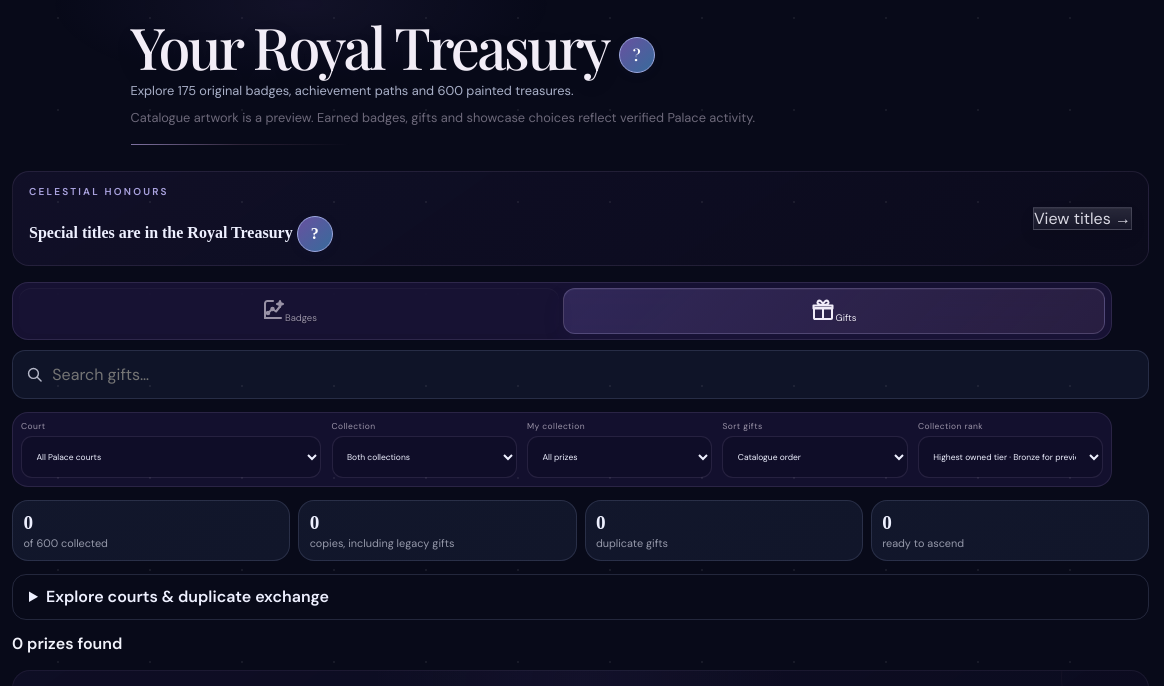
clears empty duplicate filters without treating different tiers as duplicates
Click the button with aria-label "Gift collection". click: x=834, y=311
box: [563, 288, 1105, 334]
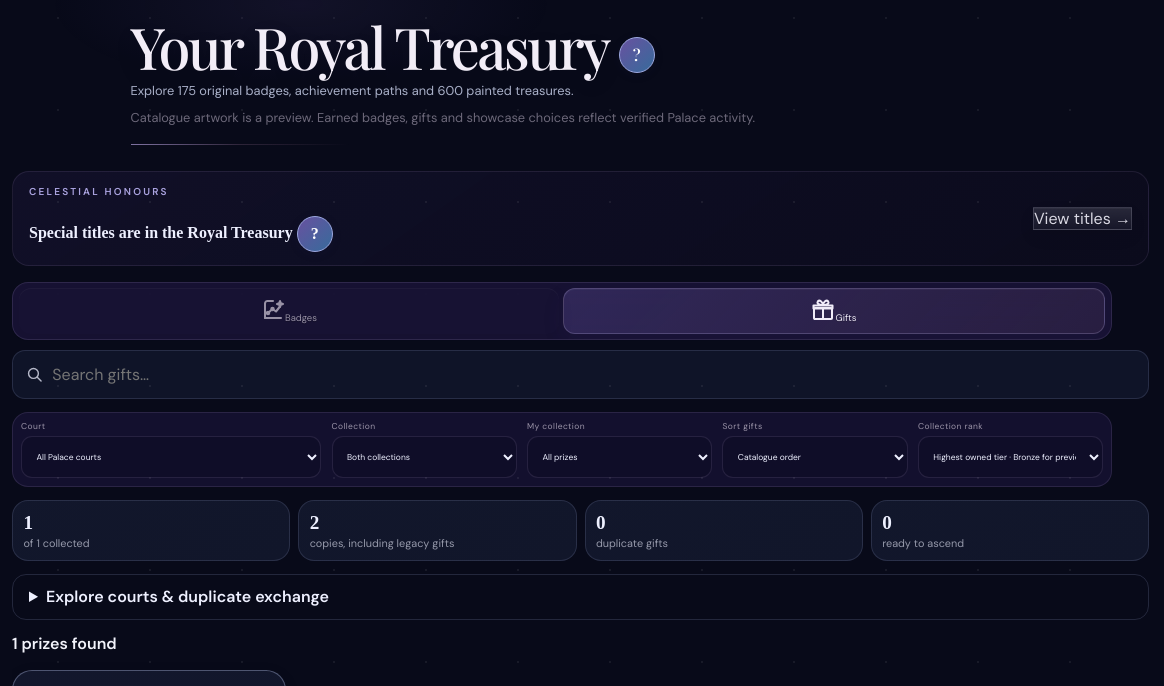
Select "Duplicates" in the dropdown labelled "My collection". click: x=620, y=457
box: [527, 436, 712, 478]
(page scrolled)
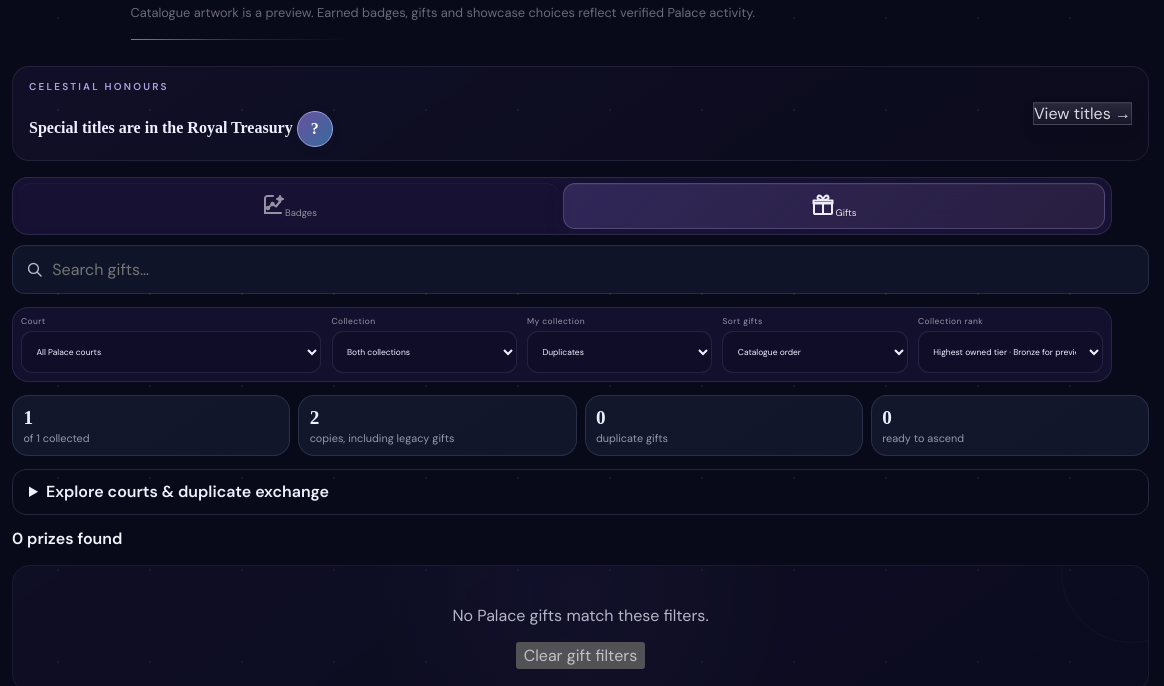
Expected: the button "Moon cup" is not shown
Click the button "Clear gift filters". click: x=580, y=655
box: [516, 642, 645, 668]
(page scrolled)
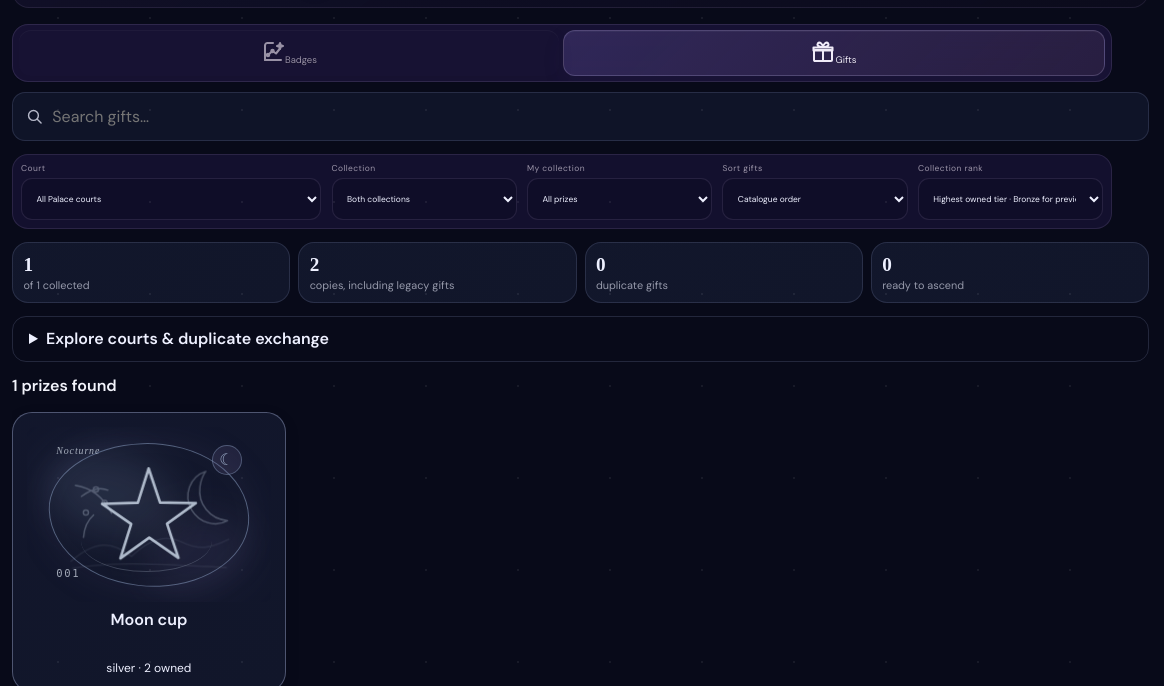
Expected: the heading "Moon cup" is shown, [110, 609, 187, 630]
